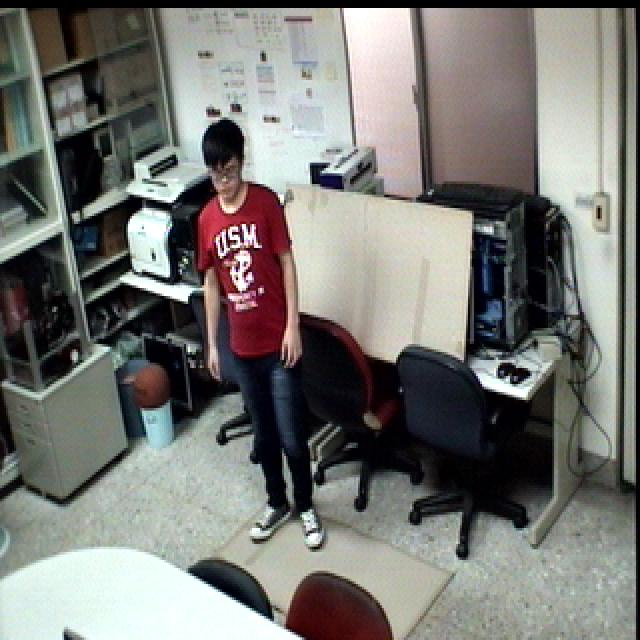stand: (187, 114, 332, 553)
